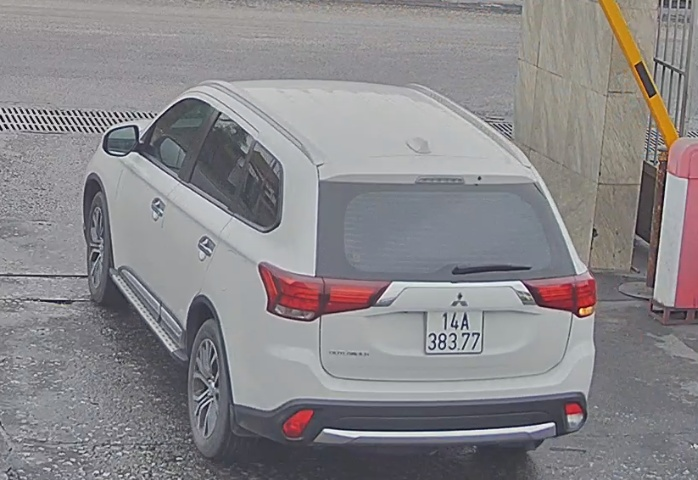vehicle plate: (417, 307, 488, 356)
